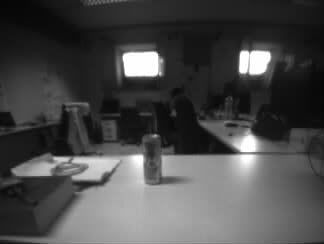Tin can: (144, 133, 162, 184)
